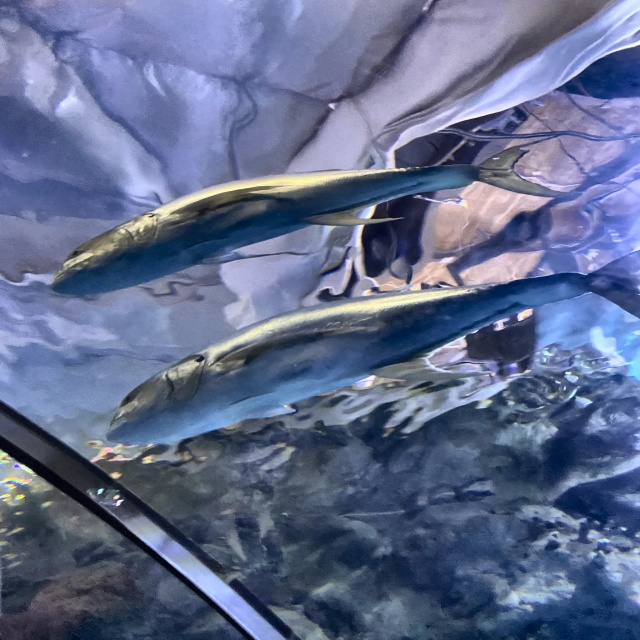fish: (101, 251, 639, 457), (31, 153, 561, 295)
